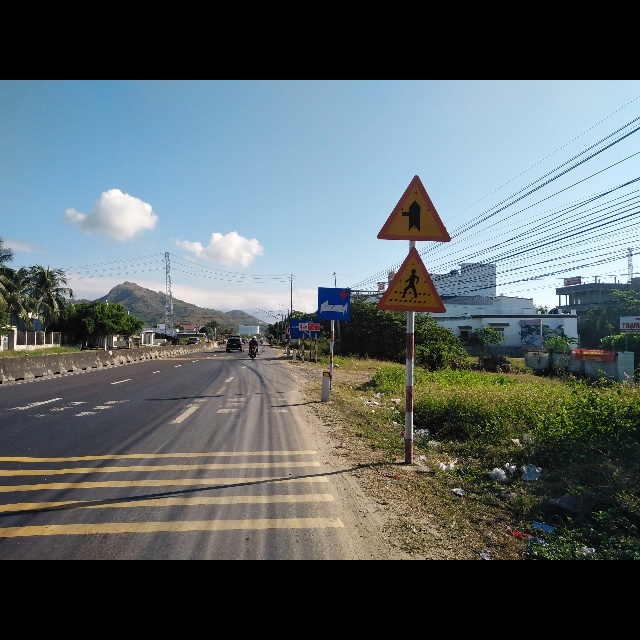Bệnh viện: (318, 286, 351, 322)
Giao nhau với đường không ưu tiên: (378, 173, 454, 242)
Đường người đi bộ sang đường: (375, 248, 448, 313)
